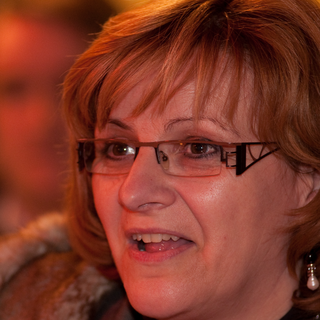eye: (171, 133, 222, 162), (96, 135, 141, 163)
